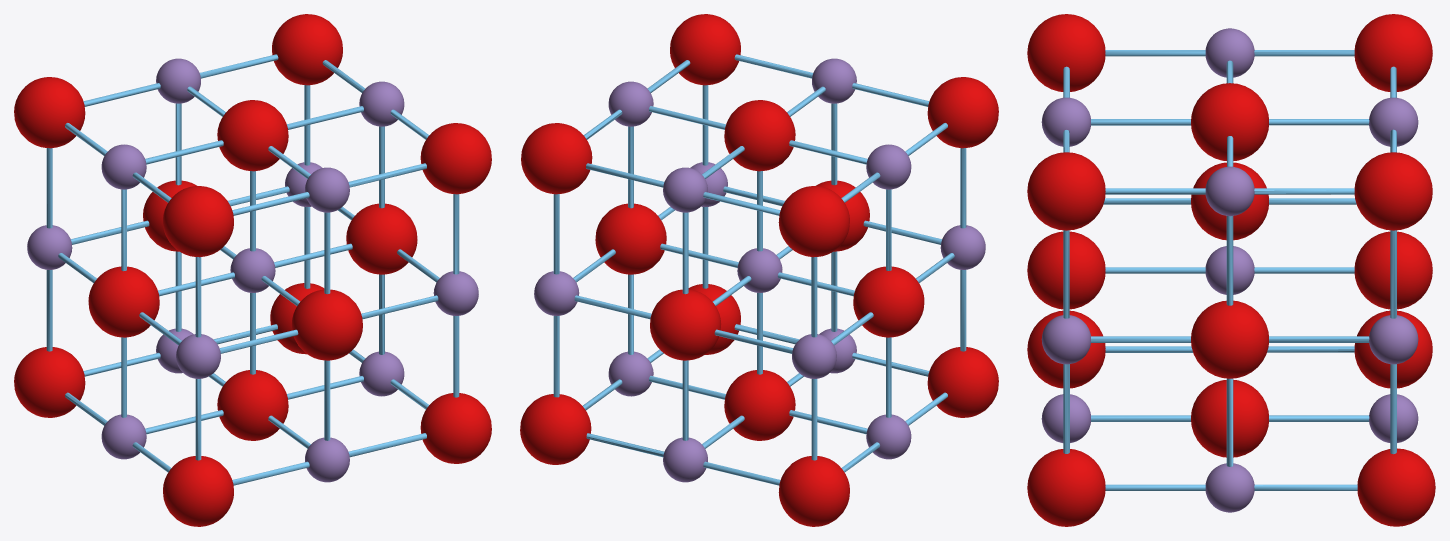
3 renders of one model, left to right at view 1: azimuth 30°, elevation 25°; view 2: azimuth 150°, elevation 25°; view 3: azimuth 270°, elevation 25°, orthographic. The views are drawn at different scales.
Parts seen in each view (by area): view 1: 图形004, Sphere353, Sphere352, Sphere358, Sphere355, Sphere354, Sphere350, Sphere361, Sphere360, Sphere351, Sphere349, Sphere357 (+16 smaller); view 2: 图形004, Sphere350, Sphere349, Sphere360, Sphere356, Sphere362, Sphere353, Sphere361, Sphere358, Sphere351, Sphere352, Sphere357 (+16 smaller); view 3: 图形004, Sphere352, Sphere349, Sphere355, Sphere356, Sphere357, Sphere350, Sphere353, Sphere351, Sphere354, Sphere362, Sphere359 (+13 smaller).
Boxes of the visible parts, <box> form: 图形004: <box>46,54,459,485</box>; Sphere353: <box>163,186,233,257</box>; Sphere352: <box>420,123,491,194</box>; Sphere358: <box>163,456,233,526</box>; Sphere355: <box>420,393,491,463</box>; Sphere354: <box>291,289,362,360</box>; Sphere350: <box>14,77,85,148</box>; Sphere361: <box>88,266,159,337</box>; Sphere360: <box>14,347,85,417</box>; Sphere351: <box>217,100,288,171</box>; Sphere349: <box>272,14,342,85</box>; Sphere357: <box>346,203,417,274</box>; 图形004: <box>553,54,966,485</box>; Sphere350: <box>778,186,849,257</box>; Sphere349: <box>521,123,592,194</box>; Sphere360: <box>778,456,849,526</box>; Sphere356: <box>520,394,591,464</box>; Sphere362: <box>650,289,720,360</box>; Sphere353: <box>927,77,998,148</box>; Sphere361: <box>853,266,924,337</box>; Sphere358: <box>927,347,998,417</box>; Sphere351: <box>724,100,795,171</box>; Sphere352: <box>670,14,740,85</box>; Sphere357: <box>595,203,666,274</box>; 图形004: <box>1063,50,1396,490</box>; Sphere352: <box>1027,152,1105,230</box>; Sphere349: <box>1354,152,1432,230</box>; Sphere355: <box>1027,449,1105,526</box>; Sphere356: <box>1357,448,1435,526</box>; Sphere357: <box>1191,300,1268,378</box>; Sphere350: <box>1354,14,1432,91</box>; Sphere353: <box>1027,14,1105,91</box>; Sphere351: <box>1191,83,1268,160</box>; Sphere354: <box>1027,231,1105,309</box>; Sphere362: <box>1354,231,1432,309</box>; Sphere359: <box>1191,380,1268,457</box>.
Size of the model in its own units: 62 by 62 by 62.43.
1 material, 1 textured.
